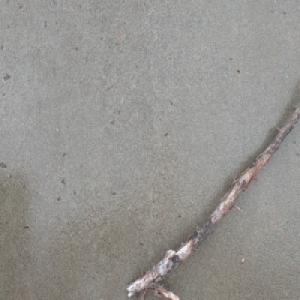Wood: (124, 101, 300, 300)
